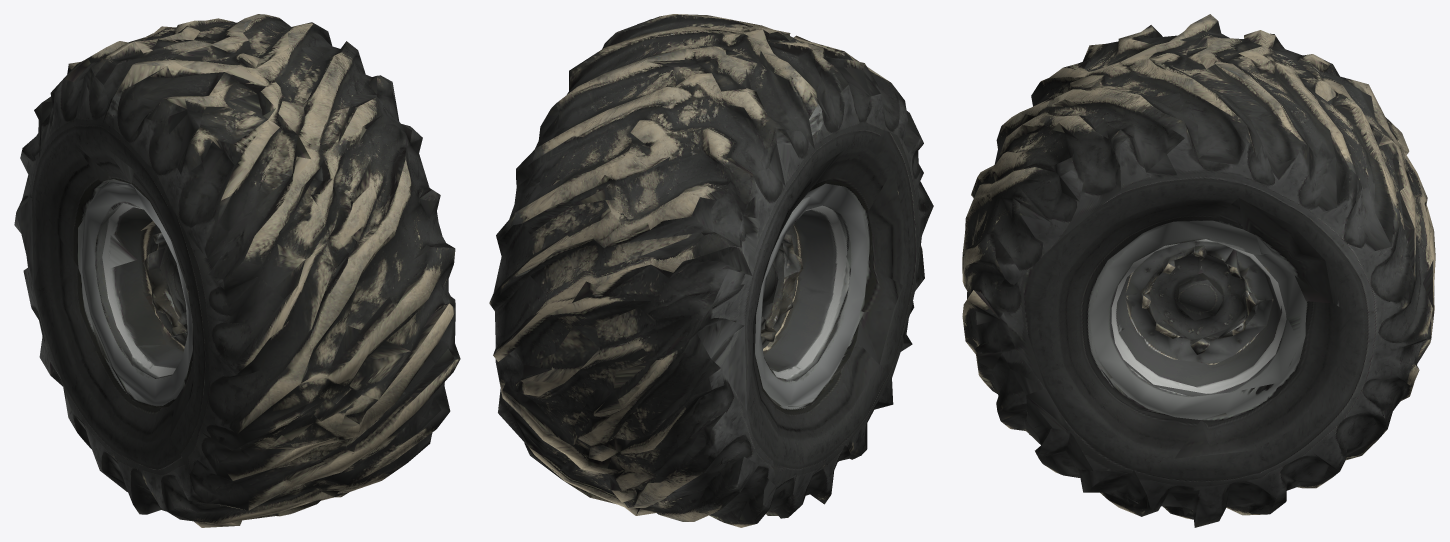
File: monstertruck_wheel.obj
The picture shows the model from 3 angles, left to right: view 1: azimuth 30°, elevation 25°; view 2: azimuth 150°, elevation 25°; view 3: azimuth 270°, elevation 25°; orthographic projection. The views are drawn at different scales.
Visible parts, largest first — view 1: wheel; view 2: wheel; view 3: wheel.
Part boxes in pixels (<box>): wheel: <box>14,14,460,527</box>; wheel: <box>489,14,933,527</box>; wheel: <box>962,14,1435,527</box>.
Size of the model in its own units: 0.3937 by 0.6974 by 0.6957.
